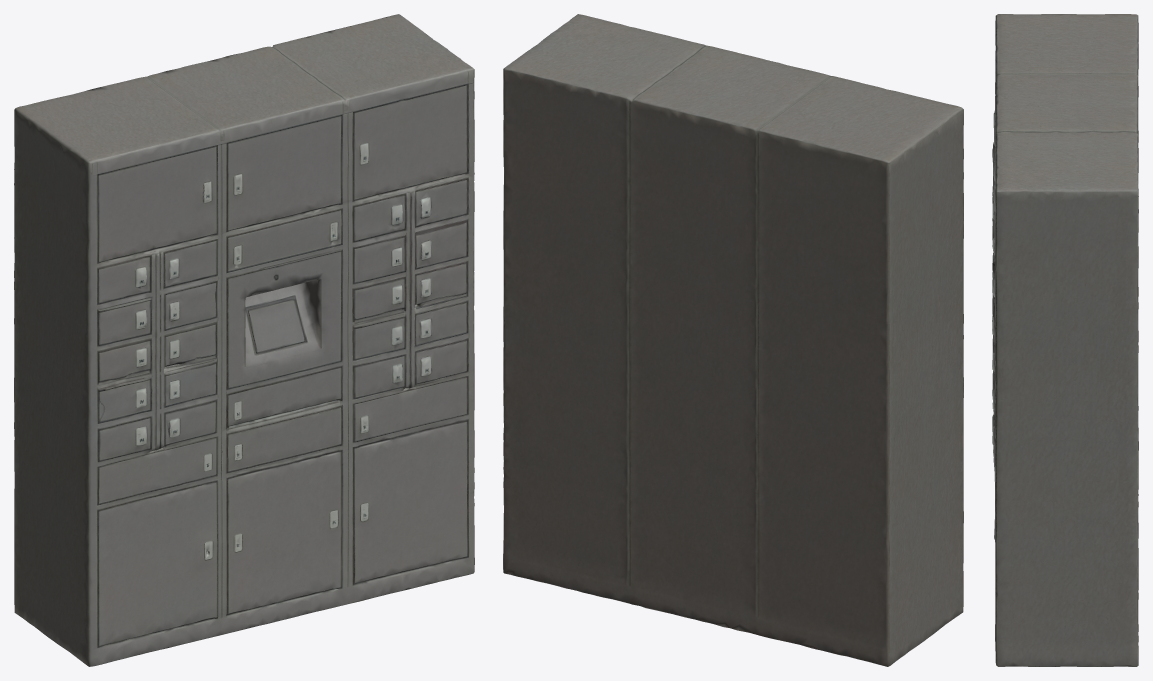
The model's file is ParcelLocker.glb.
The picture shows the model from 3 angles, left to right: view 1: azimuth 30°, elevation 25°; view 2: azimuth 150°, elevation 25°; view 3: azimuth 270°, elevation 25°; orthographic projection. The views are drawn at different scales.
Parts seen in each view (by area): view 1: texture_mapping; view 2: texture_mapping; view 3: texture_mapping.
Boxes of the visible parts, x1,y1,x2,y2 form: texture_mapping: (14,14,474,666); texture_mapping: (503,14,963,666); texture_mapping: (992,14,1138,666).
Bounding box in the file's own units: 0.8005 × 1 × 0.279.
Materials: 1 (1 with a texture image).
